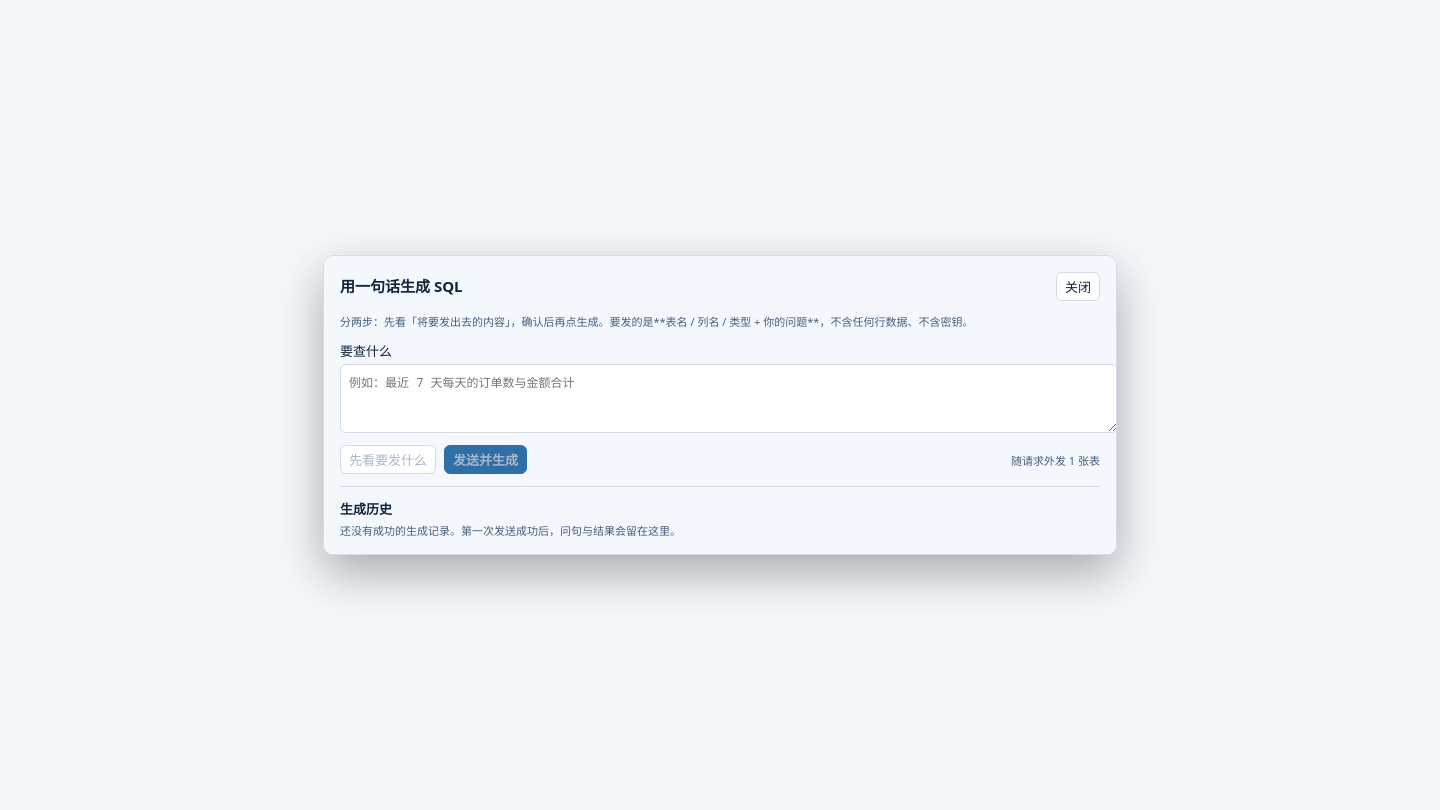
Test: AgentGenerateDialog（FR-AI-02） › 预览一步不调生成：外发必须先摊给人看
Type "最近 7 天的订单数" into the text box with test id "generate-question".
click(729, 398); type("最近 7 天的订单数")  # box left=340, top=364, right=1118, bottom=433
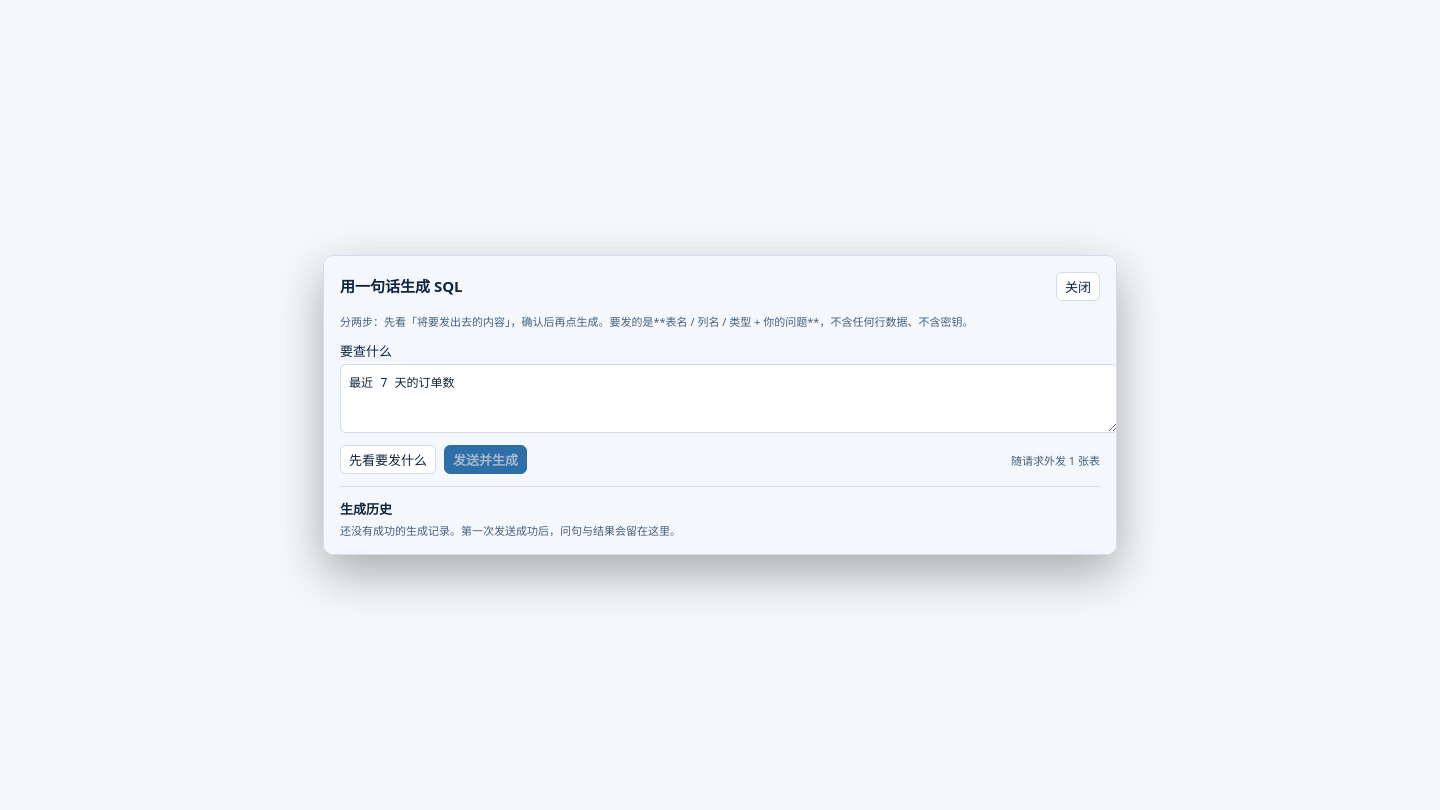
Click the button with test id "generate-preview".
click(388, 460)  # box left=340, top=445, right=436, bottom=474
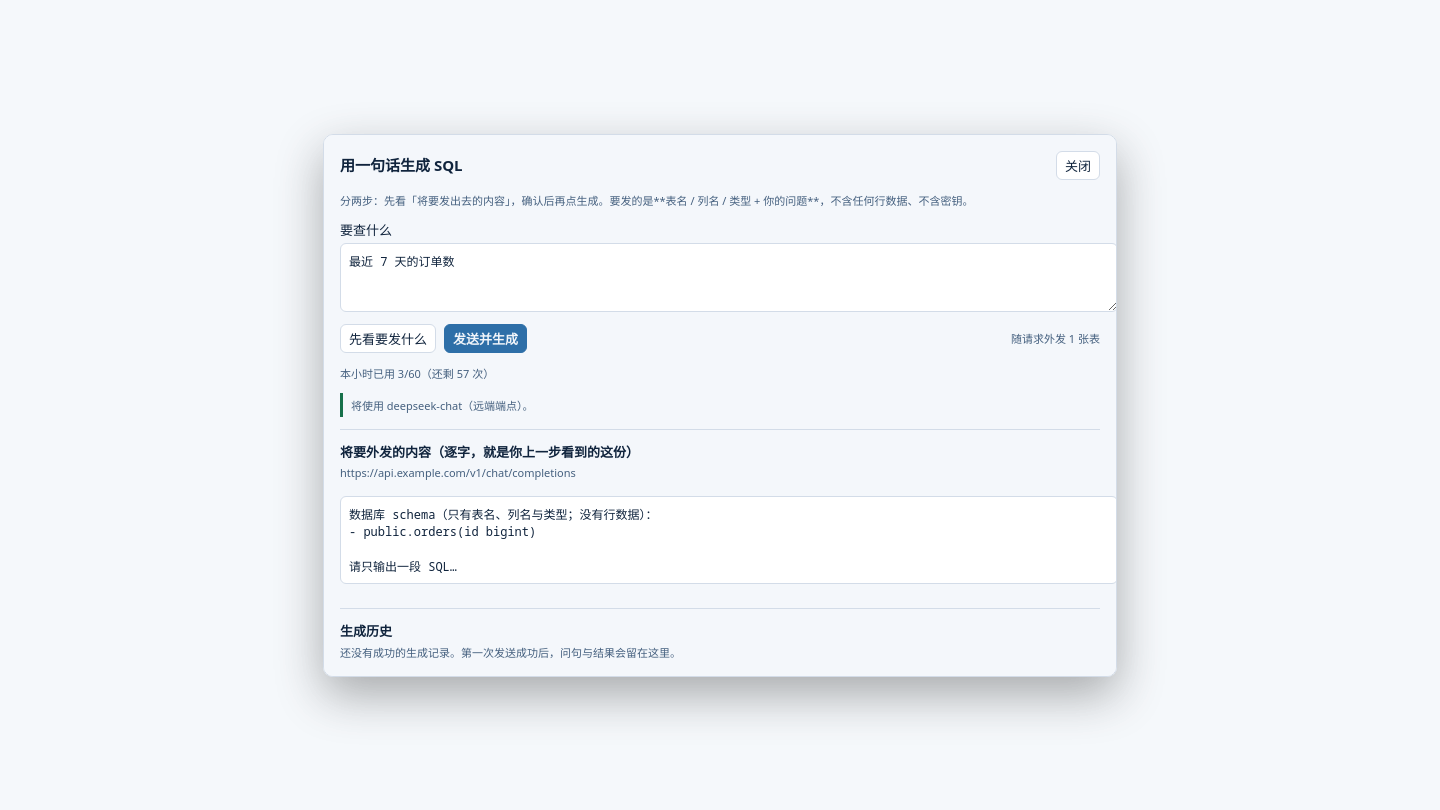
Expected: the text with test id "generate-preview-text" shows "public.orders(id bigint)", left=349, top=506, right=657, bottom=574
Expected: the text with test id "generate-url" shows "/chat/completions", left=340, top=464, right=576, bottom=480
